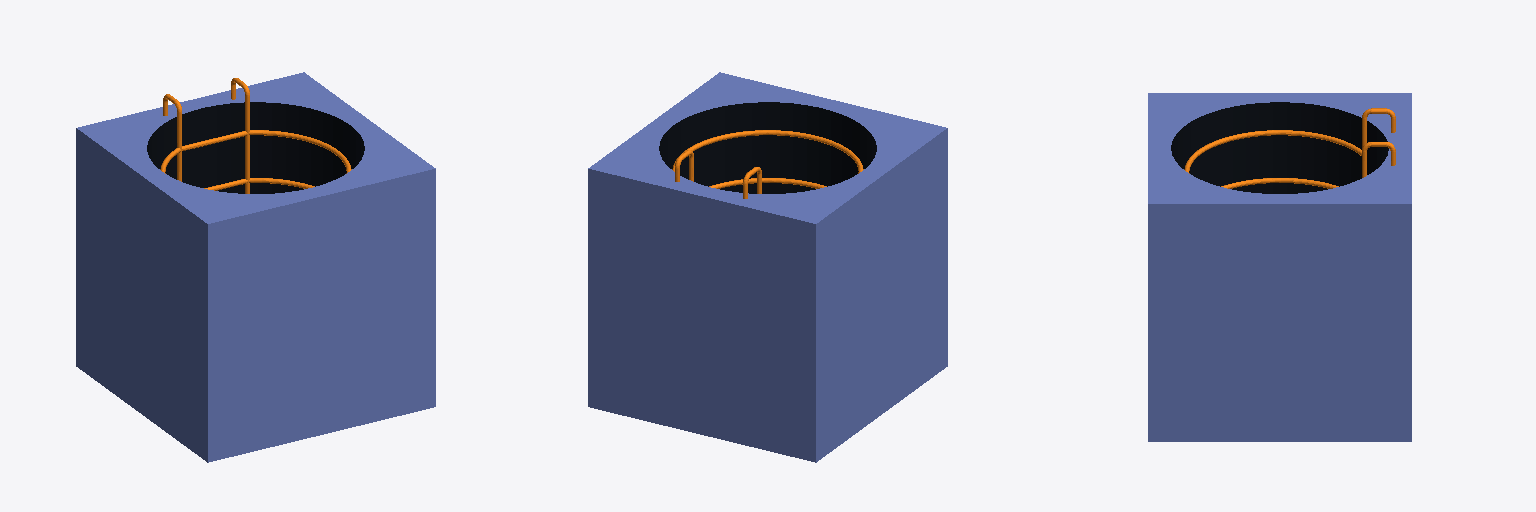
Rendered from 敌人出口.obj.
3 renders of one model, left to right at view 1: azimuth 30°, elevation 25°; view 2: azimuth 150°, elevation 25°; view 3: azimuth 270°, elevation 25°, orthographic.
Parts seen in each view (by area): view 1: 敌人出口; view 2: 敌人出口; view 3: 敌人出口.
Boxes of the visible parts, box(x1,y1,x2,y2) form: 敌人出口: box(76, 72, 435, 462); 敌人出口: box(588, 72, 947, 462); 敌人出口: box(1148, 93, 1411, 441).
Bounding box in the file's own units: 1 × 1.1 × 1.